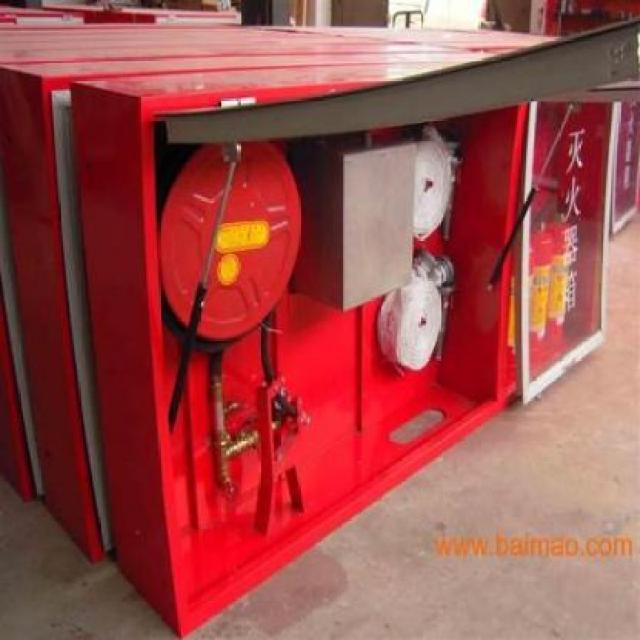firehydrant: (64, 10, 640, 639)
